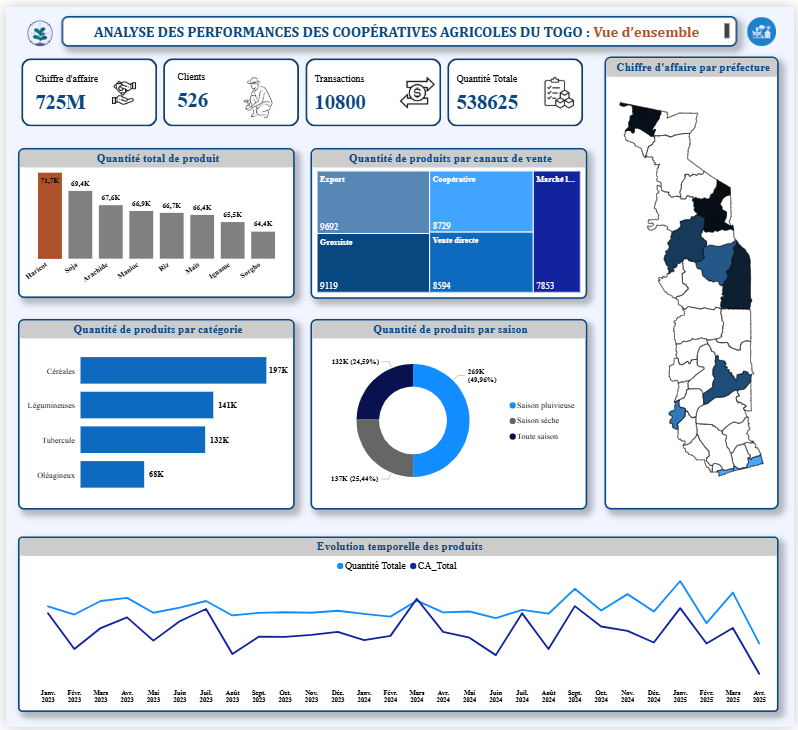

This screenshot's page, from the dashboard's own definition file:
{"tool":"powerbi","page":{"name":"Vue d’ensemble","canvas":[1280,1170],"ordinal":0},"visuals":[{"type":"textbox","box":[90,15,1098.3,50],"z":0},{"type":"cardVisual","fields":{"Data":["_Mesures.CA_Total","_Mesures.Clients_Actifs","_Mesures.Nbre_ de_produit","_Mesures.qte_Total"]},"box":[20.5,78.1,926,121.9],"z":1000},{"type":"shapeMap","title":"Chiffre d''affaire par préfecture","fields":{"Category":["prefectures.prefecture"],"Value":["_Mesures.CA_Total"]},"box":[973.3,80,283.3,736.7],"z":2000},{"type":"columnChart","title":"Quantité total de produit","fields":{"Category":["ventes_cooperatives.produit"],"Y":["_Mesures.qte_Total"]},"box":[20,230,450,244.3],"z":3000},{"type":"treemap","title":"Quantité de produits par canaux de vente","fields":{"Values":["_Mesures.Quantité Total"],"Group":["ventes_cooperatives.canal_vente"]},"box":[495,230,450,245],"z":4000},{"type":"lineChart","title":"Evolution temporelle des produits","fields":{"Category":["calendrier.Month & Year"],"Y2":["_Mesures.CA_Total"],"Y":["_Mesures.Quantité Totale"]},"box":[20,860,1236.7,285],"z":5000},{"type":"image","box":[0,0,110,83.3],"z":7000},{"type":"image","box":[1200,8.3,56.7,65],"z":8000},{"type":"barChart","title":"Quantité de produits par catégorie","fields":{"Category":["catégorie_produits.categorie"],"Y":["_Mesures.Quantité Totale"]},"box":[20,507.5,450,310],"z":9000},{"type":"donutChart","title":"Quantité de produits par saison","fields":{"Y":["_Mesures.Quantité Totale"],"Category":["saisons.saisons"]},"box":[495,507.5,450,310],"z":10000}]}

Visuals, with their boxes in screenshot pixels (x1, y1, x2, y2), scaled from the page's 1280x1170 canvas onto the 798x730 screenshot:
textbox: left=56, top=9, right=741, bottom=41
cardVisual - _Mesures.CA_Total x _Mesures.Clients_Actifs: left=13, top=49, right=590, bottom=125
"Chiffre d''affaire par préfecture" shapeMap: left=607, top=50, right=783, bottom=510
"Quantité total de produit" columnChart: left=12, top=144, right=293, bottom=296
"Quantité de produits par canaux de vente" treemap: left=309, top=144, right=589, bottom=296
"Evolution temporelle des produits" lineChart: left=12, top=537, right=783, bottom=714
image: left=0, top=0, right=69, bottom=52
image: left=748, top=5, right=783, bottom=46
"Quantité de produits par catégorie" barChart: left=12, top=317, right=293, bottom=510
"Quantité de produits par saison" donutChart: left=309, top=317, right=589, bottom=510
